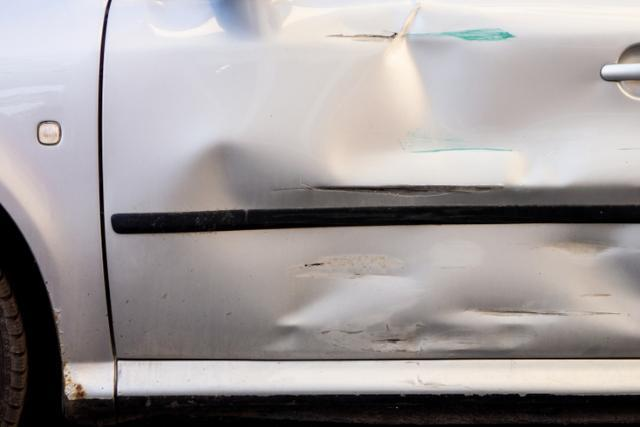Door: (147, 21, 640, 369)
